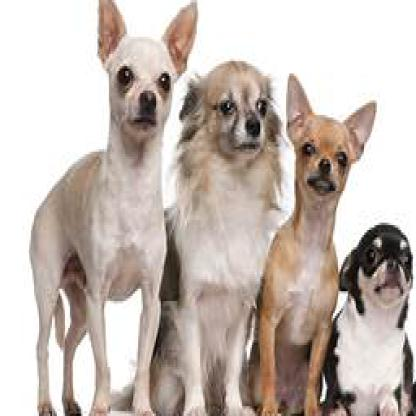dog: (30, 0, 198, 414), (263, 61, 377, 414), (178, 56, 280, 414), (334, 220, 414, 414)
